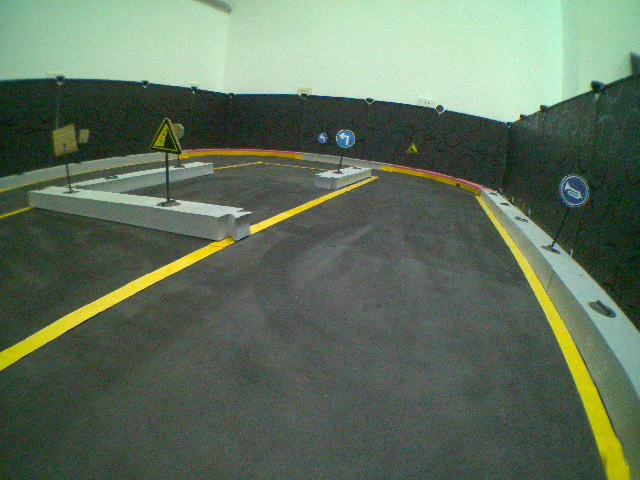fast: (147, 116, 183, 154), (405, 142, 418, 154)
horn: (558, 172, 590, 208)
turn: (337, 129, 356, 149), (316, 131, 328, 145)
